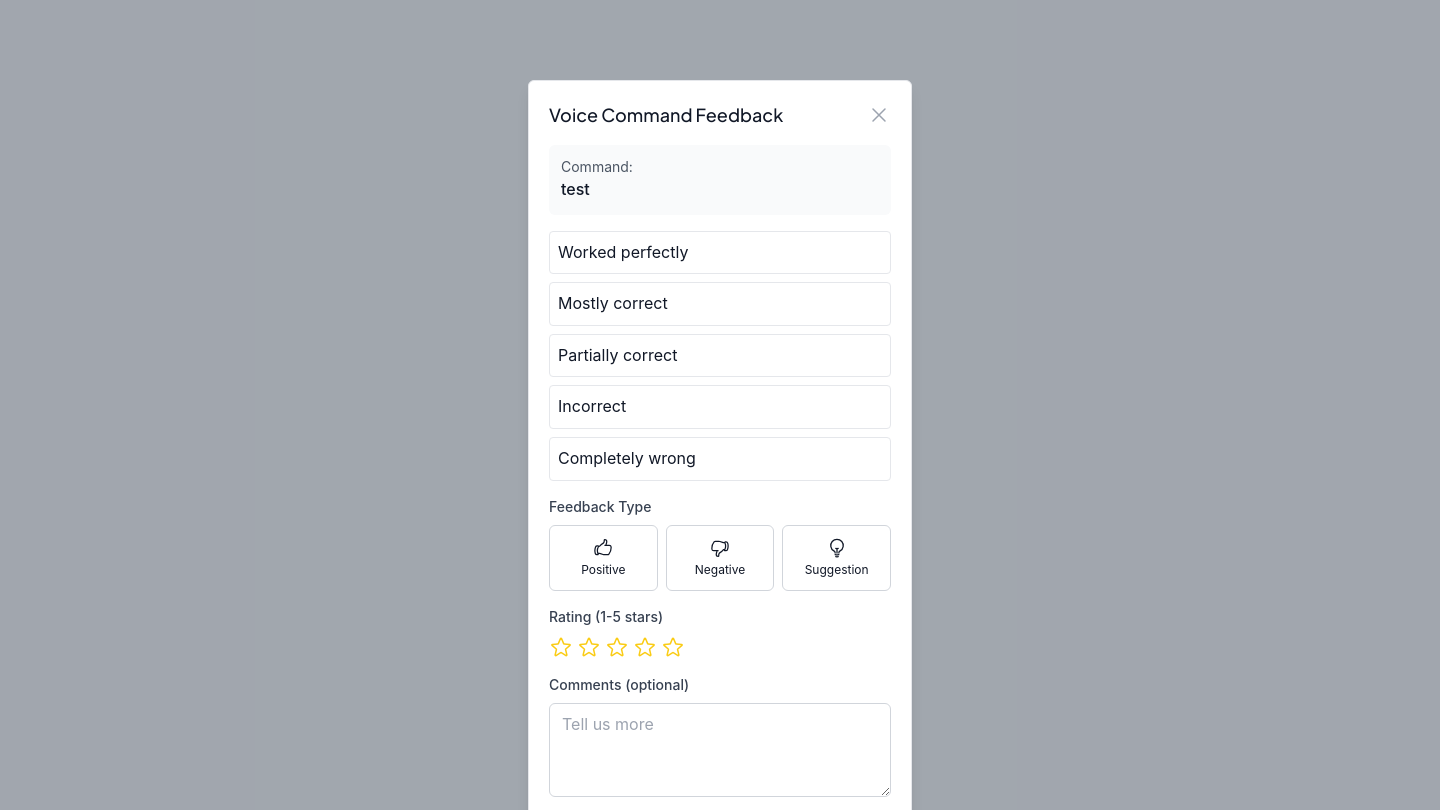
Scenario: VoiceFeedbackModal › should enable submit button when feedback type and rating are selected
The image size is (1440, 810).
Click the button "Positive" at [603, 558], box [549,525,658,591]
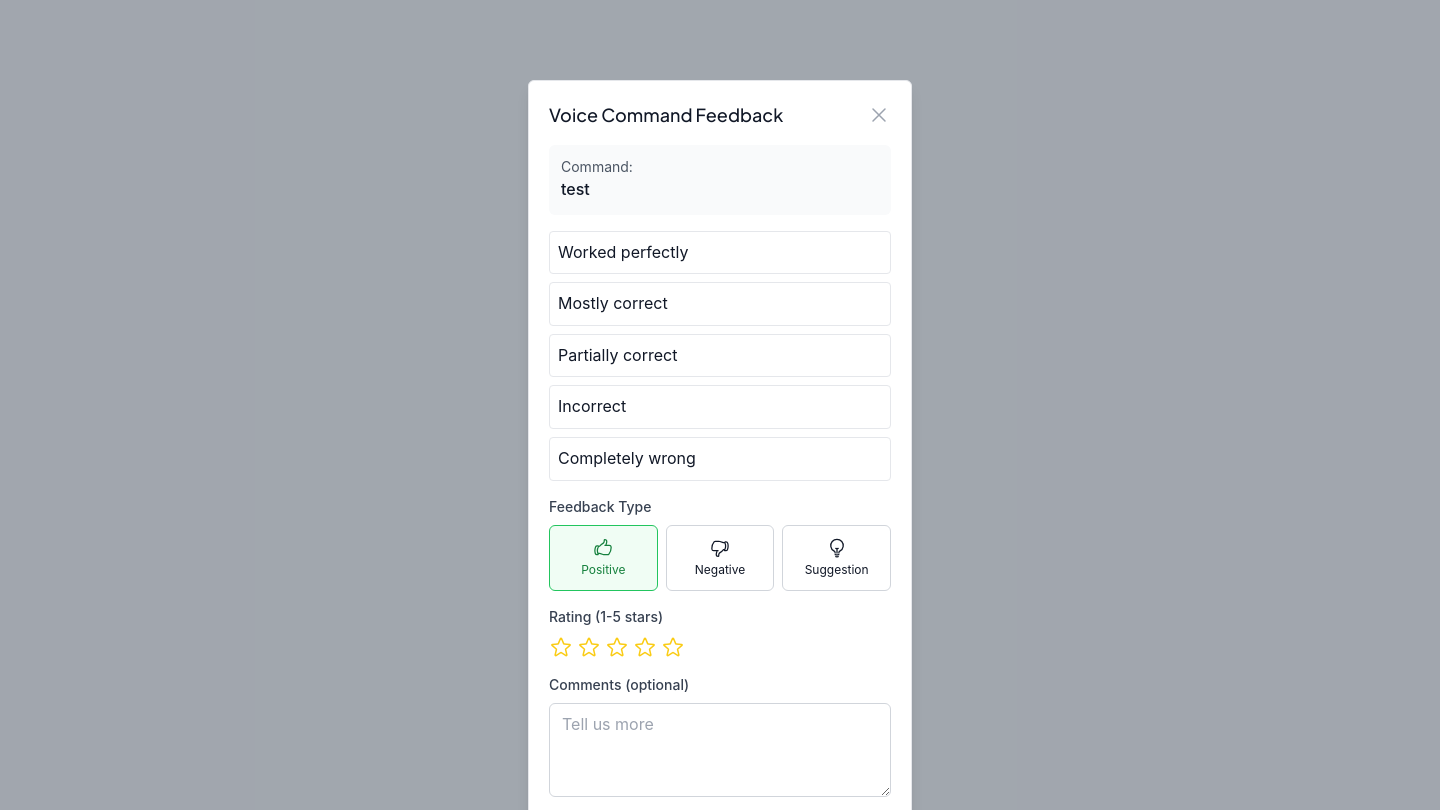
Click the button named "3 stars" at [617, 647], box [605,635,629,659]
(page scrolled)
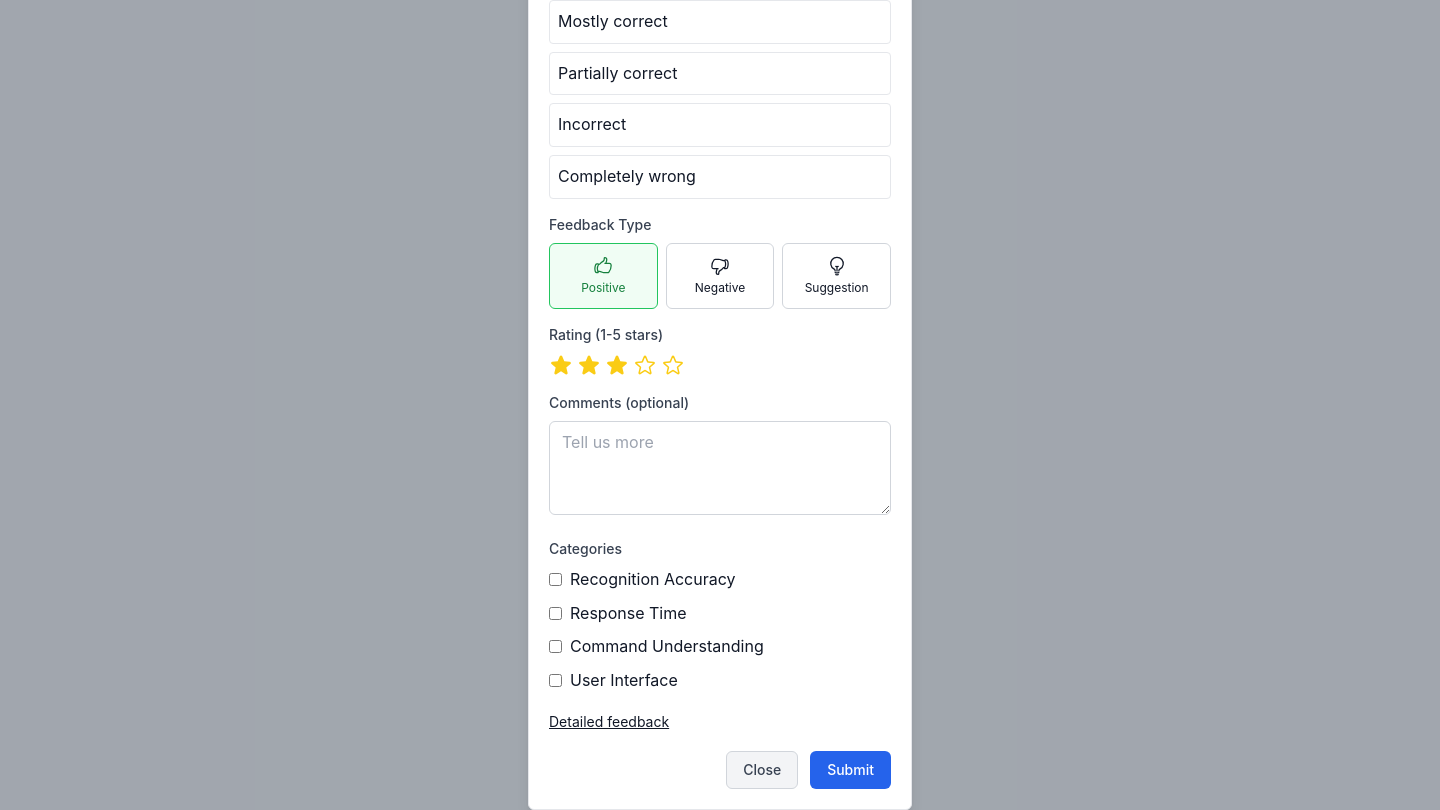
Check: the button "Submit" is enabled, box [810,751,891,789]
